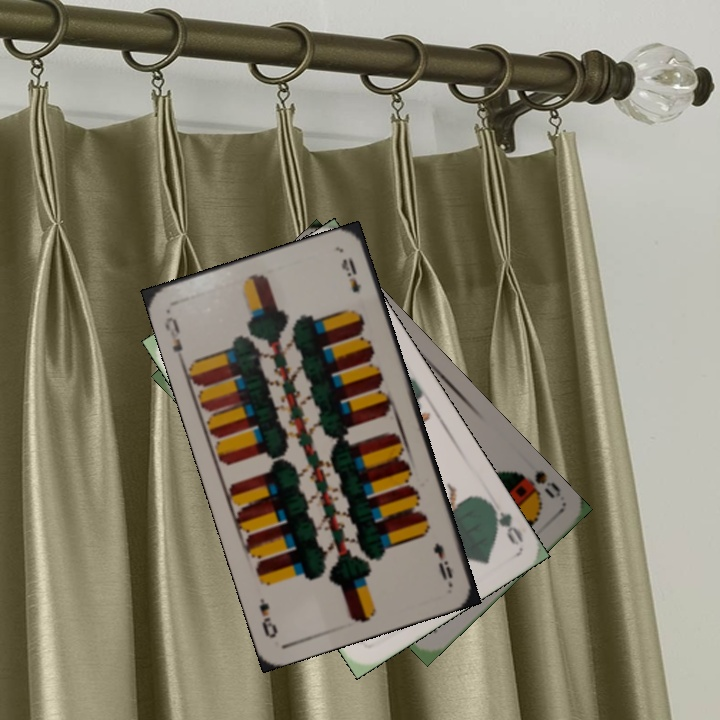E9: (160, 313, 187, 365), (429, 538, 455, 582)
GO: (481, 496, 526, 547)
SO: (509, 465, 564, 507)
